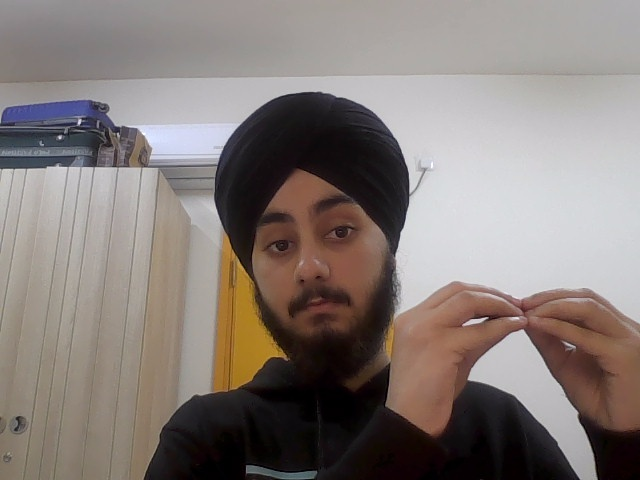More: (385, 276, 640, 438)
